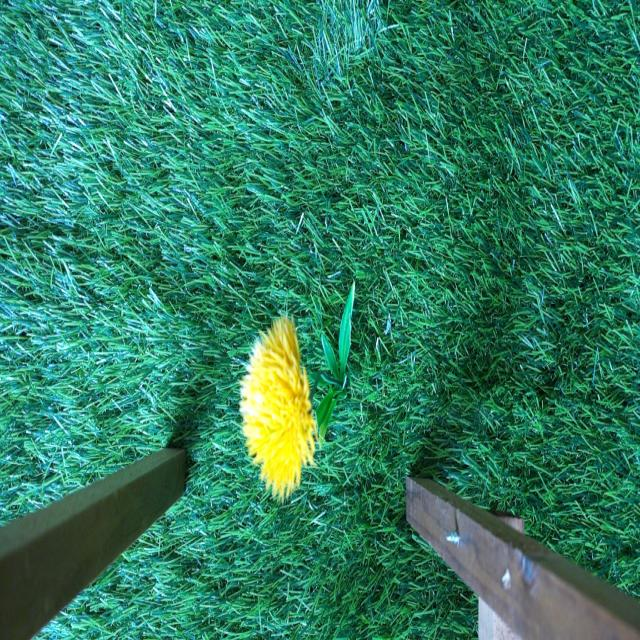base: (315, 282, 355, 438)
flower: (239, 318, 319, 496)
